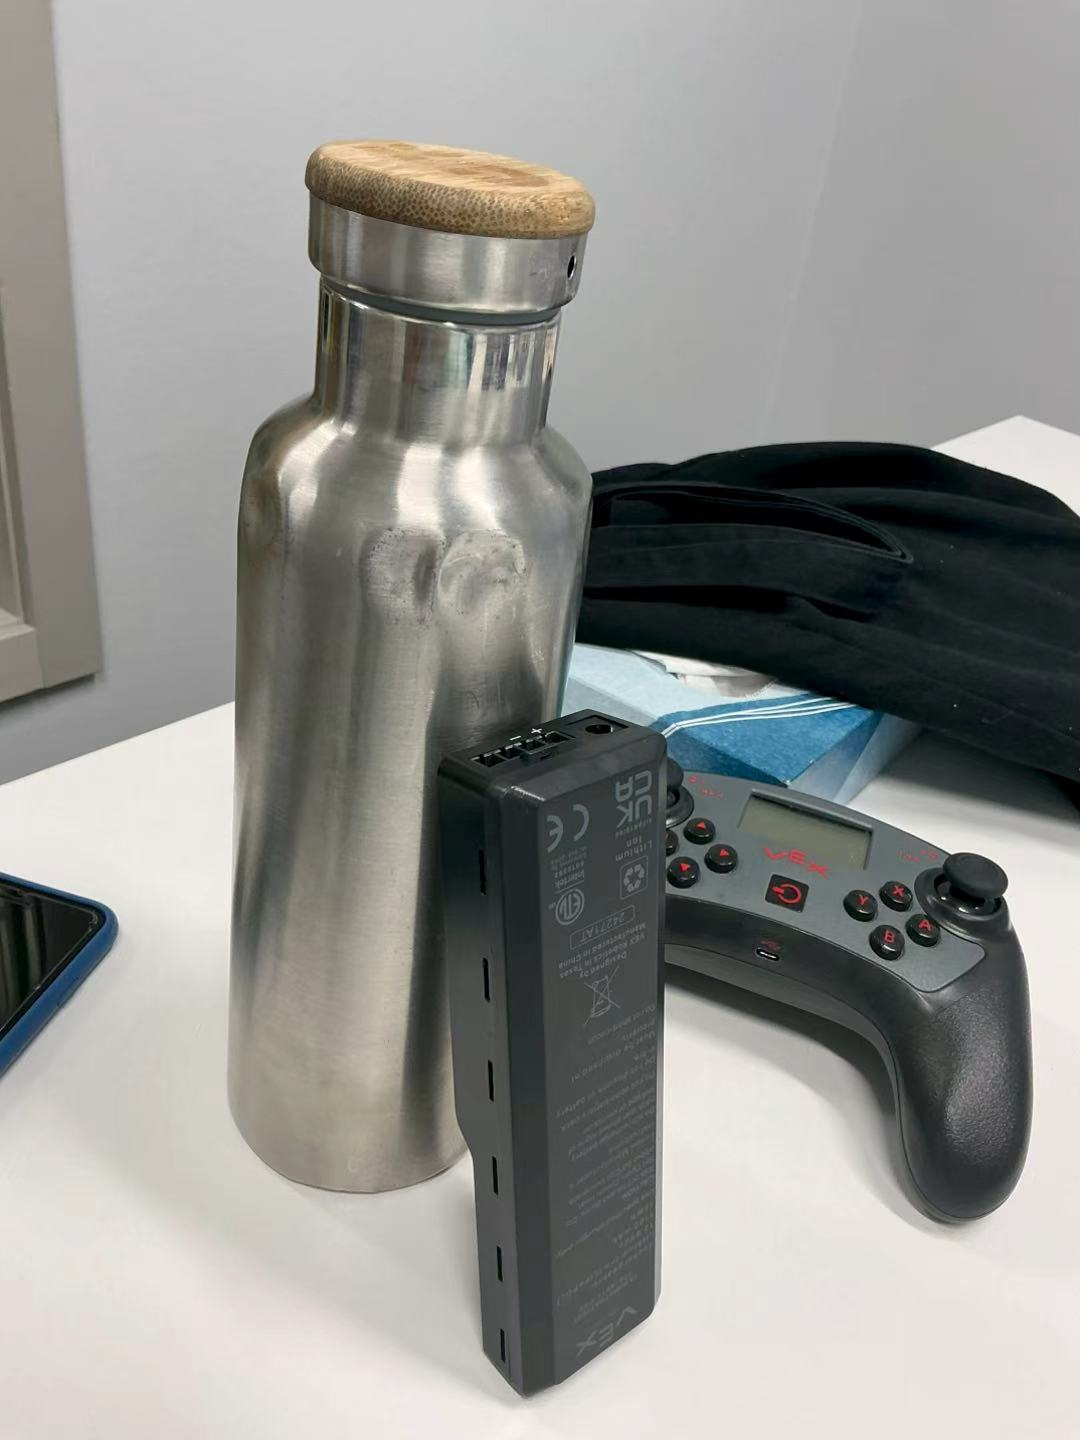Water_Bottle: (226, 126, 587, 1211)
